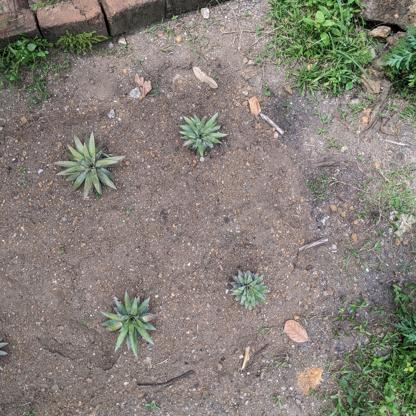pineapple: (54, 131, 126, 204), (101, 287, 159, 368), (176, 108, 229, 158), (226, 268, 272, 312)
